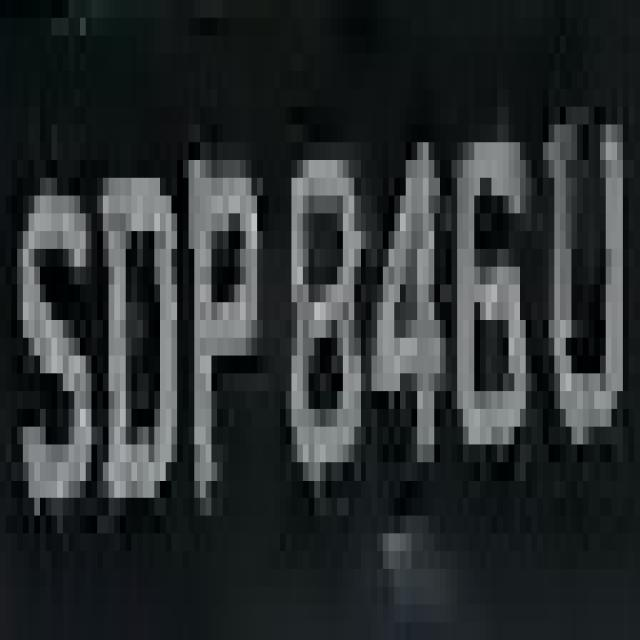4: (360, 89, 451, 551)
6: (446, 54, 537, 534)
8: (268, 35, 383, 569)
D: (80, 106, 177, 586)
P: (177, 106, 274, 498)
S: (12, 160, 108, 604)
U: (532, 89, 634, 498)
